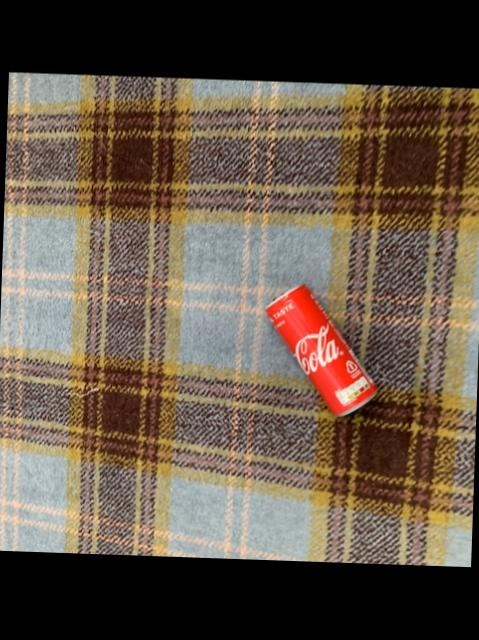metal: (267, 284, 376, 414)
